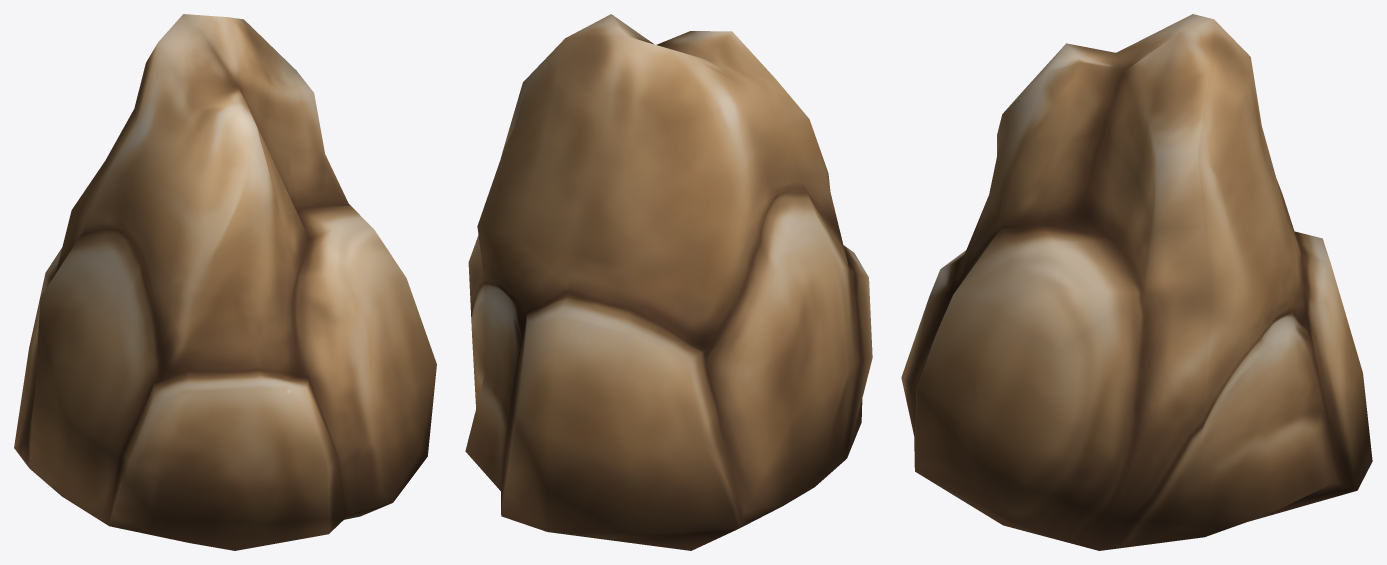
Rendered from Menire.fbx.
The picture shows the model from 3 angles, left to right: view 1: azimuth 30°, elevation 25°; view 2: azimuth 150°, elevation 25°; view 3: azimuth 270°, elevation 25°; orthographic projection. The views are drawn at different scales.
Visible parts, largest first — view 1: menire; view 2: menire; view 3: menire.
Part boxes in pixels (x1=…): menire: x1=14, y1=14, x2=436, y2=550; menire: x1=465, y1=14, x2=872, y2=550; menire: x1=901, y1=14, x2=1372, y2=550.
Bounding box in the file's own units: 81.3 × 103 × 90.57.
Materials: 1 (1 with a texture image).
